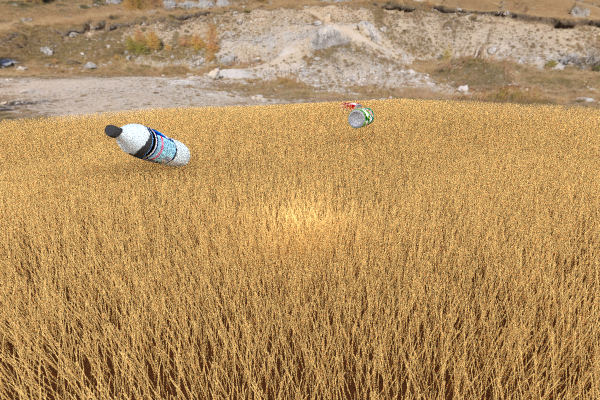bottle: (104, 123, 190, 167)
can: (347, 107, 374, 128), (338, 102, 362, 116)
